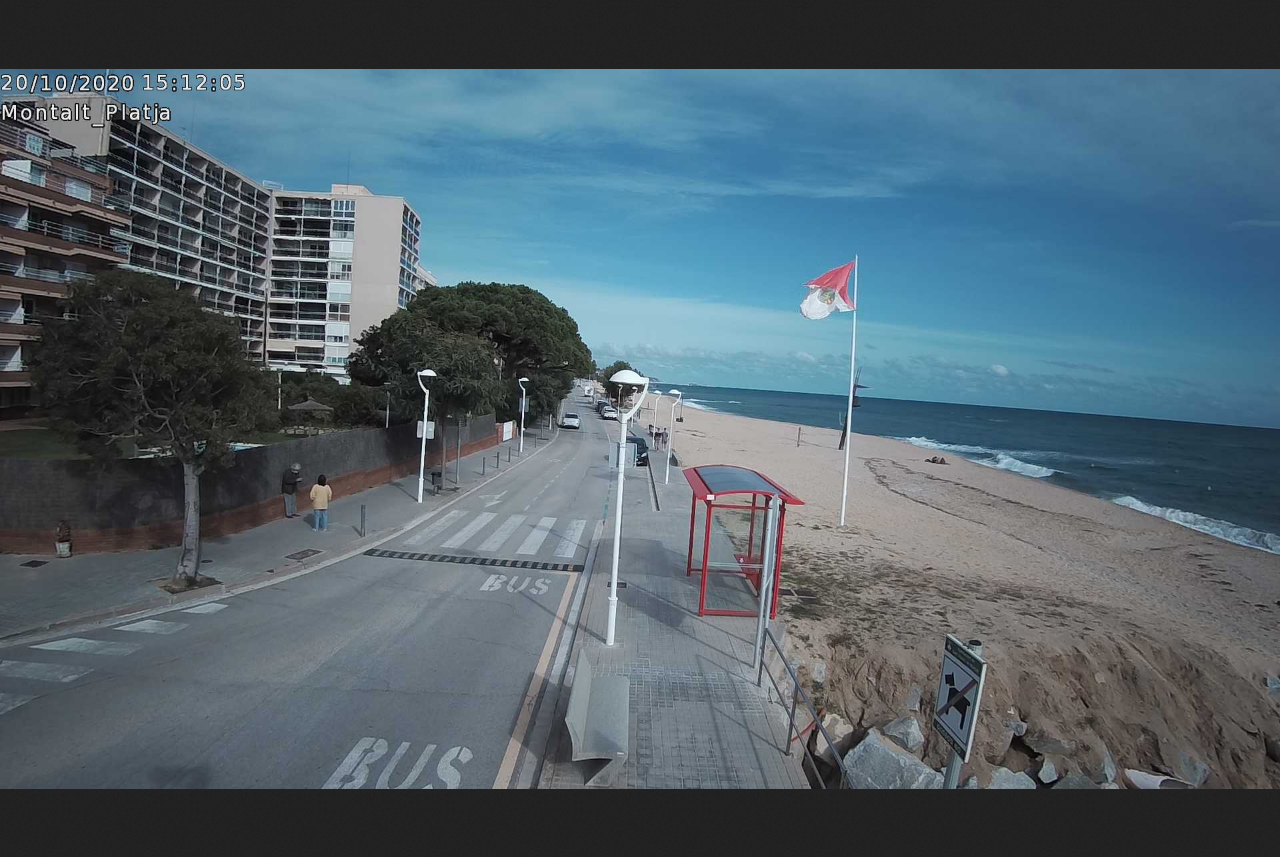maybe: (792, 252, 867, 323)
